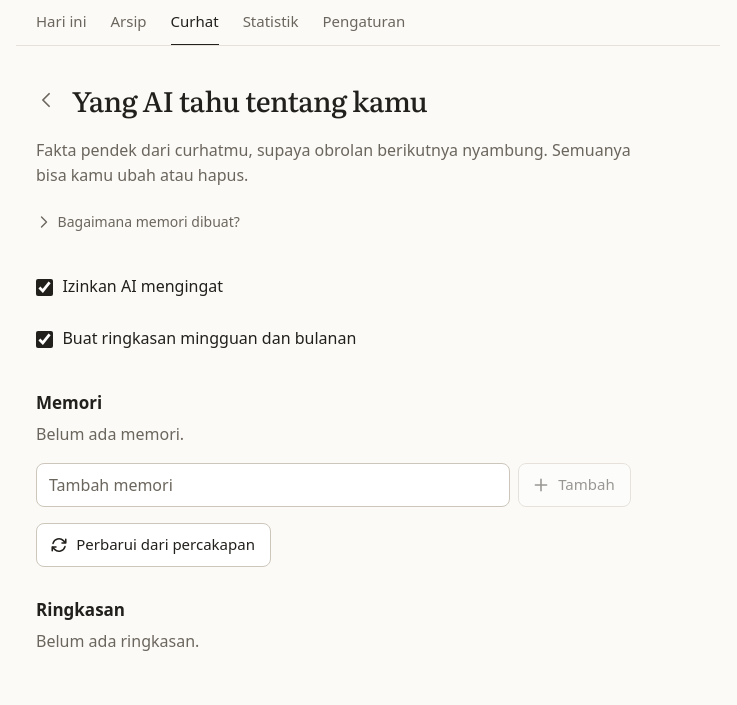
a throwing refresh shows an error and re-enables the button
The width and height of the screenshot is (737, 705).
Click the button "Perbarui dari percakapan" at (154, 545), box [36,523,271,567]
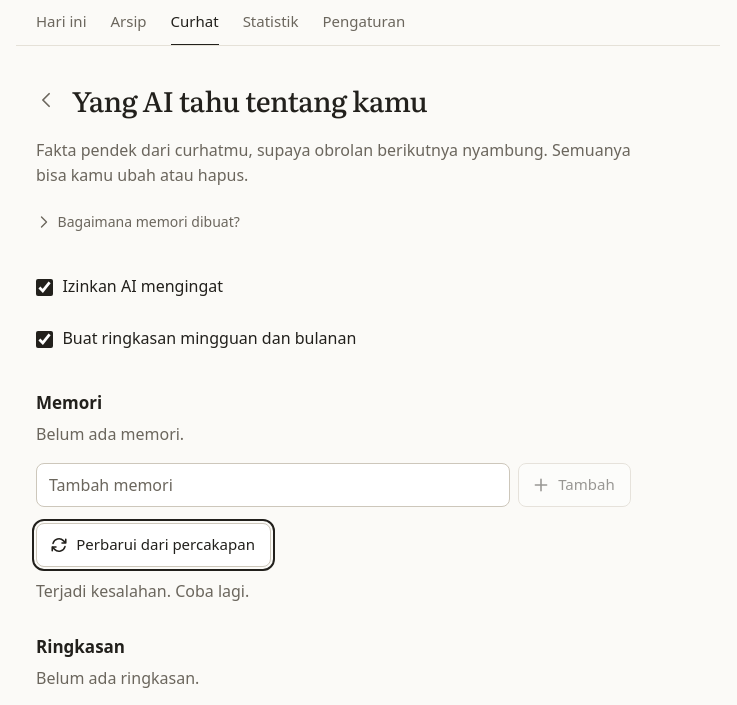
Expected: the message "Terjadi kesalahan. Coba lagi." is shown, [36,580,249,602]
